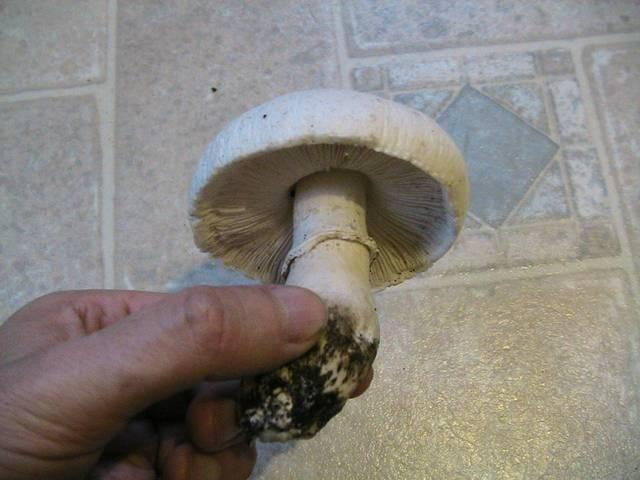Non-edible Mushroom: (185, 86, 471, 443)
